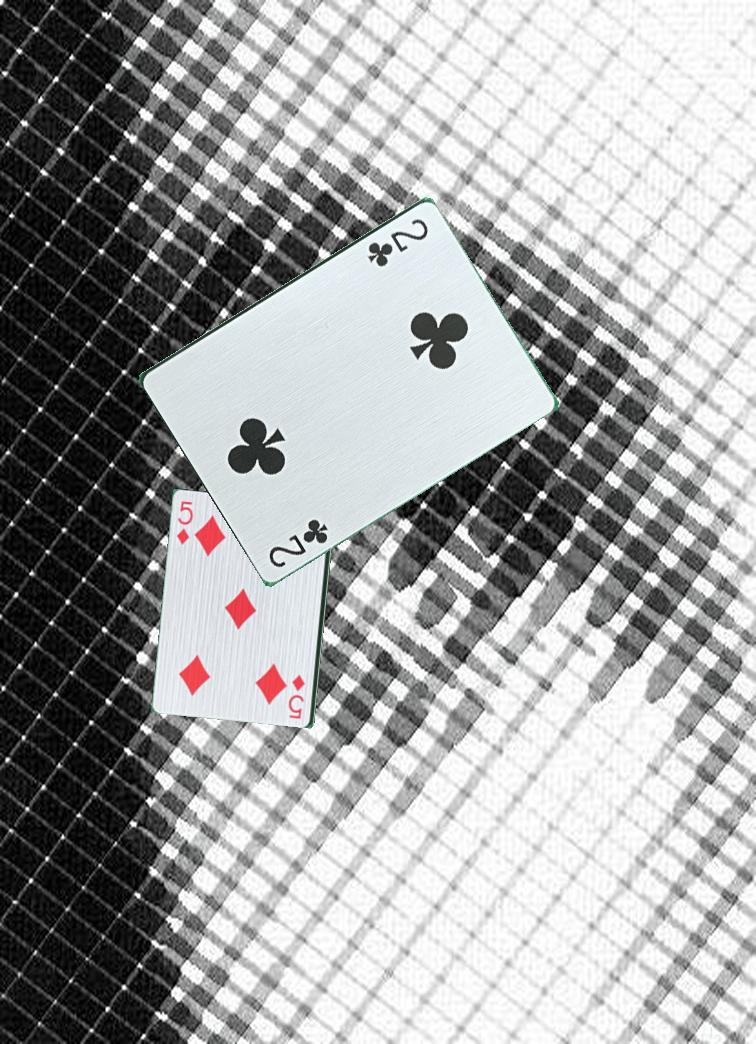2c: (265, 514, 331, 570), (364, 214, 432, 268)
5d: (173, 497, 196, 548), (288, 671, 308, 722)
